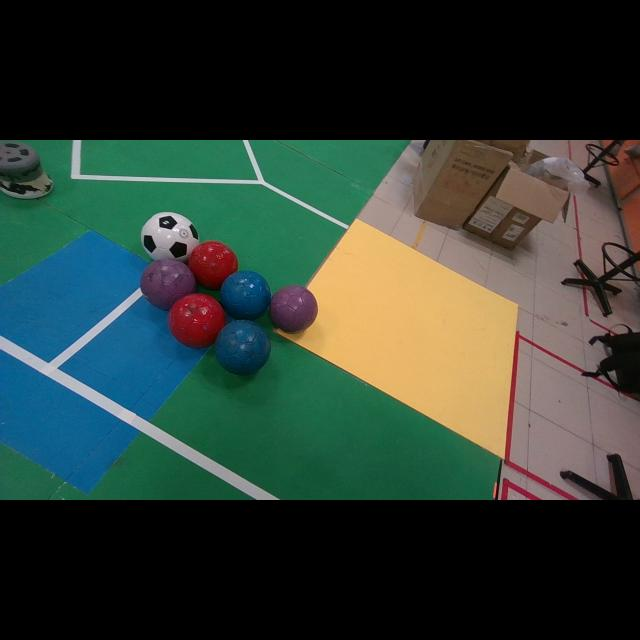B: (215, 320, 271, 375), (221, 270, 270, 320)
P: (140, 259, 196, 310), (269, 285, 318, 332)
R: (169, 294, 226, 347), (189, 240, 239, 289)
